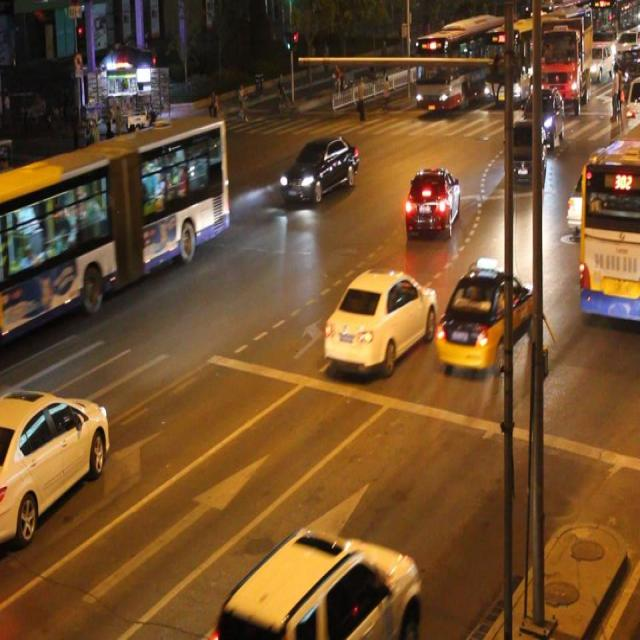car: (223, 524, 418, 640), (1, 387, 110, 536), (324, 265, 436, 369), (433, 264, 536, 369), (280, 137, 358, 200), (404, 164, 460, 239), (503, 120, 544, 186)
van: (1, 127, 227, 326), (582, 118, 640, 324)
